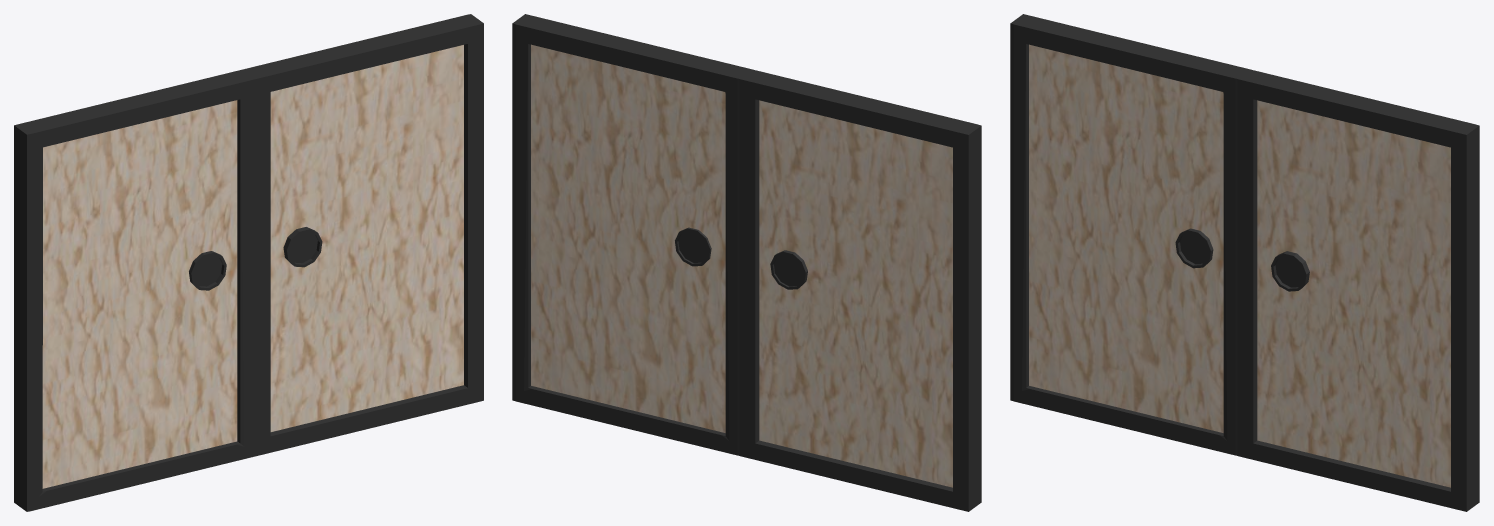
File: ふすま.fbx
3 renders of one model, left to right at view 1: azimuth 30°, elevation 25°; view 2: azimuth 150°, elevation 25°; view 3: azimuth 330°, elevation 25°, orthographic.
Visible parts, largest first — view 1: 立方体.074, 立方体.072, 立方体.073, 立方体.075, 円柱.012, 円柱.013; view 2: 立方体.072, 立方体.074, 立方体.073, 立方体.075, 円柱.013, 円柱.012; view 3: 立方体.074, 立方体.072, 立方体.075, 立方体.073, 円柱.012, 円柱.013.
Boxes of the visible parts, <box> form: 立方体.074: <box>42,100,237,488</box>; 立方体.072: <box>270,45,463,431</box>; 立方体.073: <box>14,69,255,511</box>; 立方体.075: <box>242,14,483,456</box>; 円柱.012: <box>283,227,322,267</box>; 円柱.013: <box>189,251,226,290</box>; 立方体.072: <box>531,44,725,432</box>; 立方体.074: <box>759,100,952,487</box>; 立方体.073: <box>739,70,981,511</box>; 立方体.075: <box>512,14,753,455</box>; 円柱.013: <box>770,250,807,289</box>; 円柱.012: <box>675,227,711,266</box>; 立方体.074: <box>1029,44,1223,432</box>; 立方体.072: <box>1257,100,1450,487</box>; 立方体.075: <box>1237,69,1479,511</box>; 立方体.073: <box>1010,14,1251,455</box>; 円柱.012: <box>1271,251,1309,291</box>; 円柱.013: <box>1175,228,1213,268</box>.
Bounding box in the file's own units: 137 × 108 × 6.83.
Materials: 2 (1 with a texture image).
